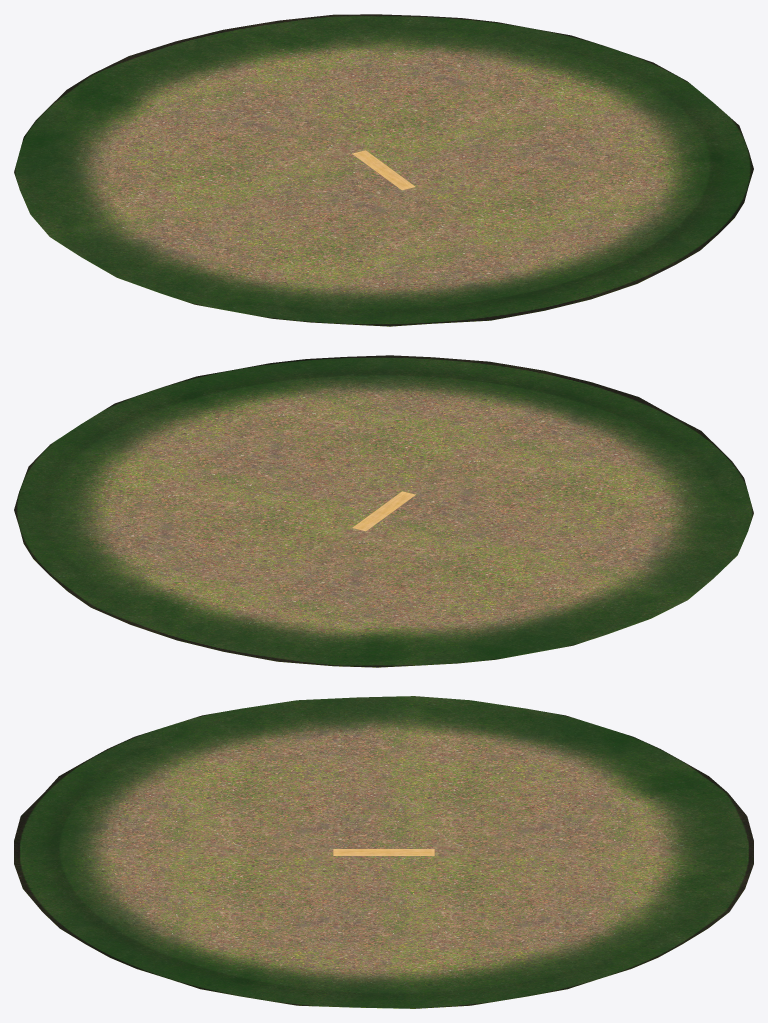
File: ground_2026-10-27c.glb
The picture shows the model from 3 angles, top to bottom: view 1: azimuth 30°, elevation 25°; view 2: azimuth 150°, elevation 25°; view 3: azimuth 270°, elevation 25°; orthographic projection.
Visible parts, largest first — view 1: ground_overlay, pitch; view 2: ground_overlay, pitch; view 3: ground_overlay, pitch.
Boxes of the visible parts, x1,y1,x2,y2 form: ground_overlay: (14,14,753,326); pitch: (352,150,415,190); ground_overlay: (14,355,753,667); pitch: (352,491,415,531); ground_overlay: (14,696,753,1008); pitch: (333,849,434,855).
Bounding box in the file's own units: 165 × 0.0263 × 165.
3 materials, 3 textured.
